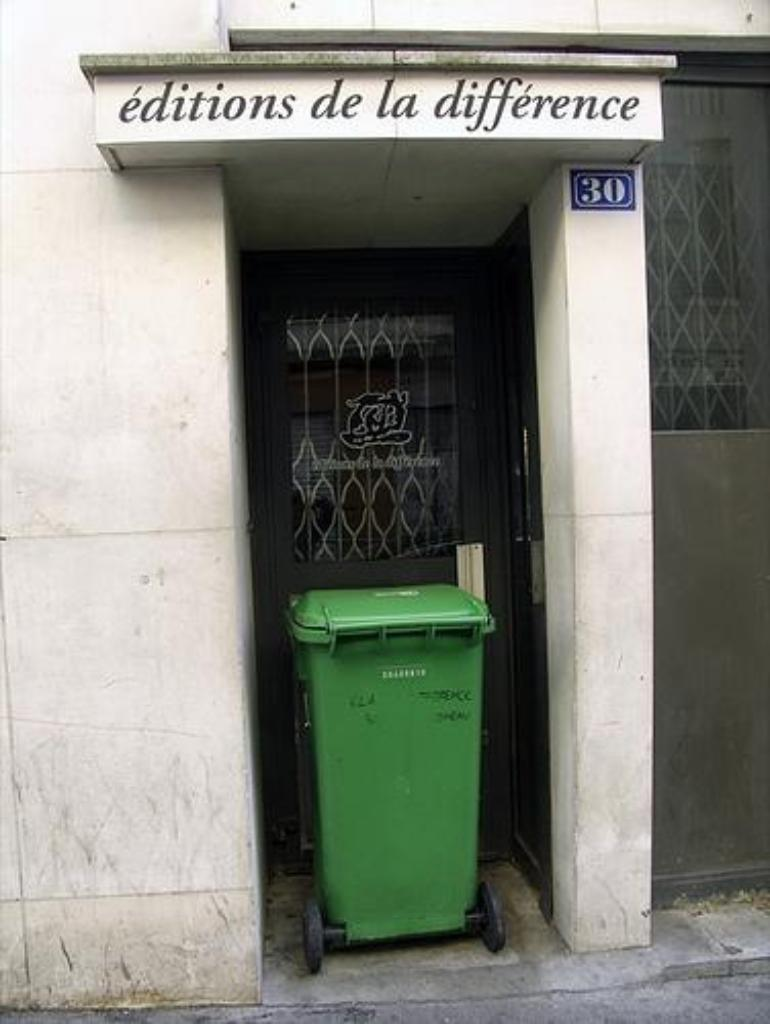dustbin: (287, 545, 527, 972)
